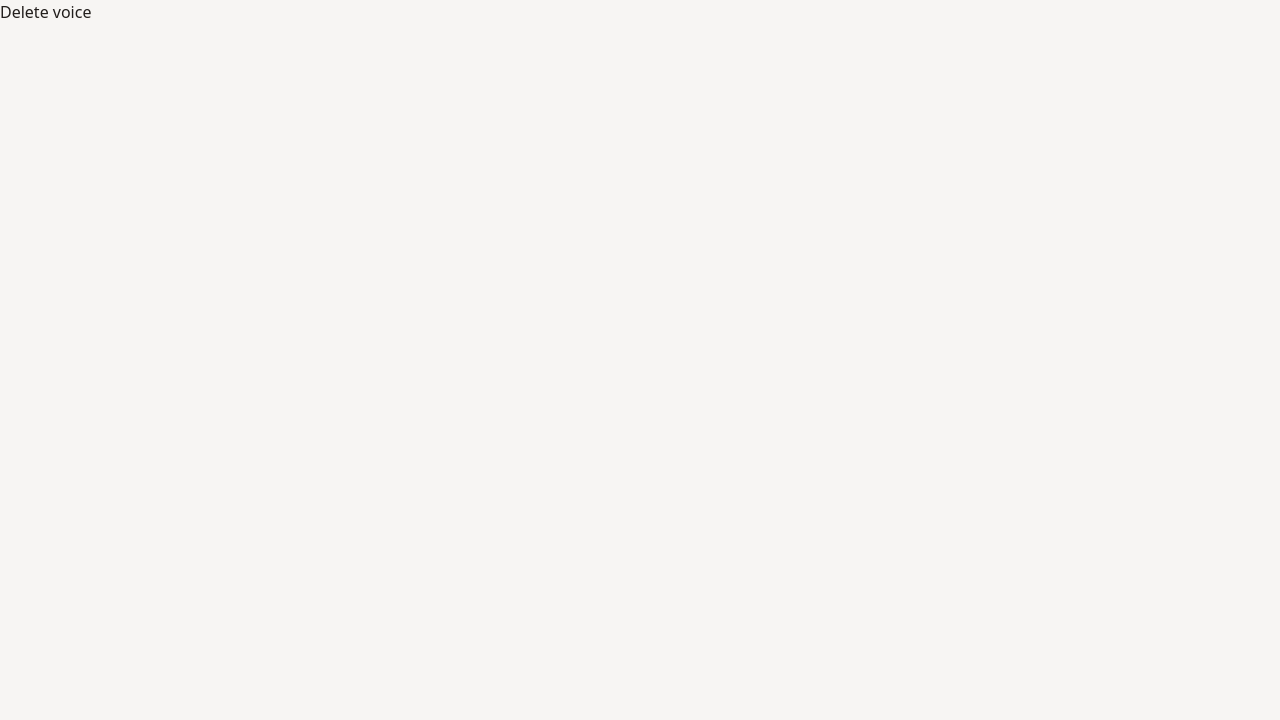
Test: AlertDialog › announces as an alertdialog with consequence text
Click the button "Delete voice": x=46, y=12 [0,0,92,24]
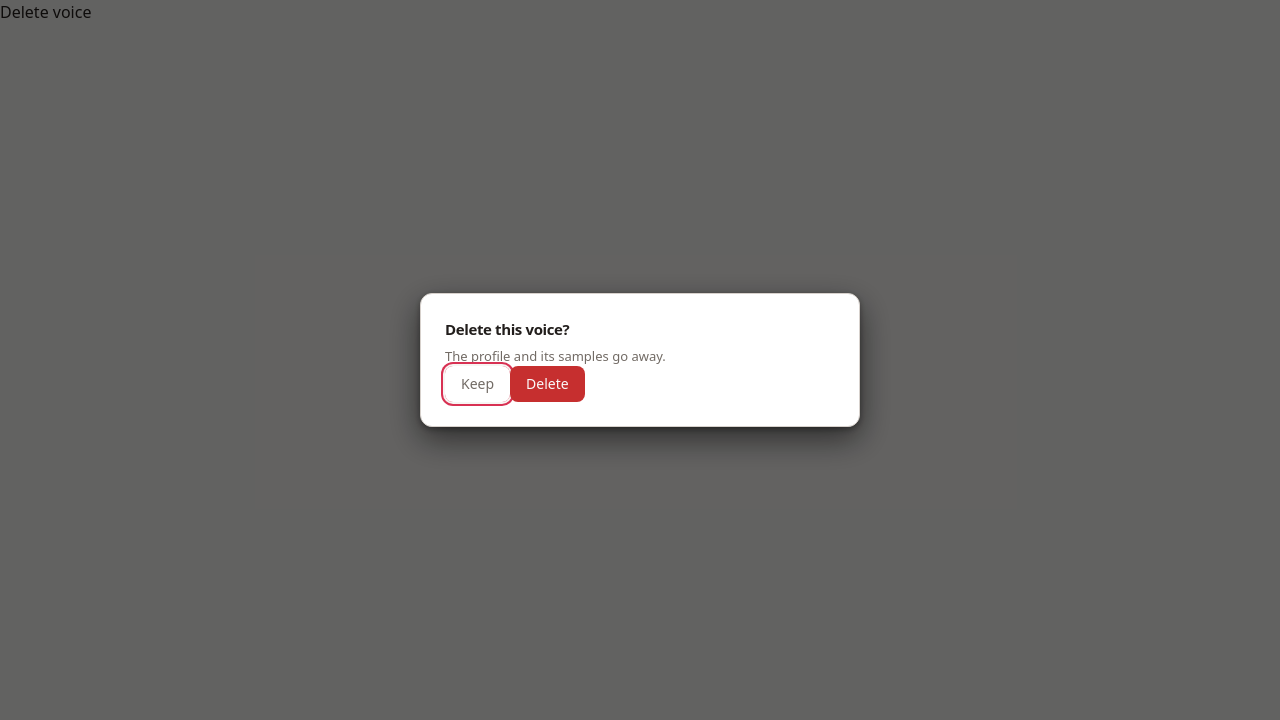
Result: the dialog "Delete this voice?" is shown at [420,293,860,427]
Result: the text "The profile and its samples go away." is shown at [445,346,666,364]
